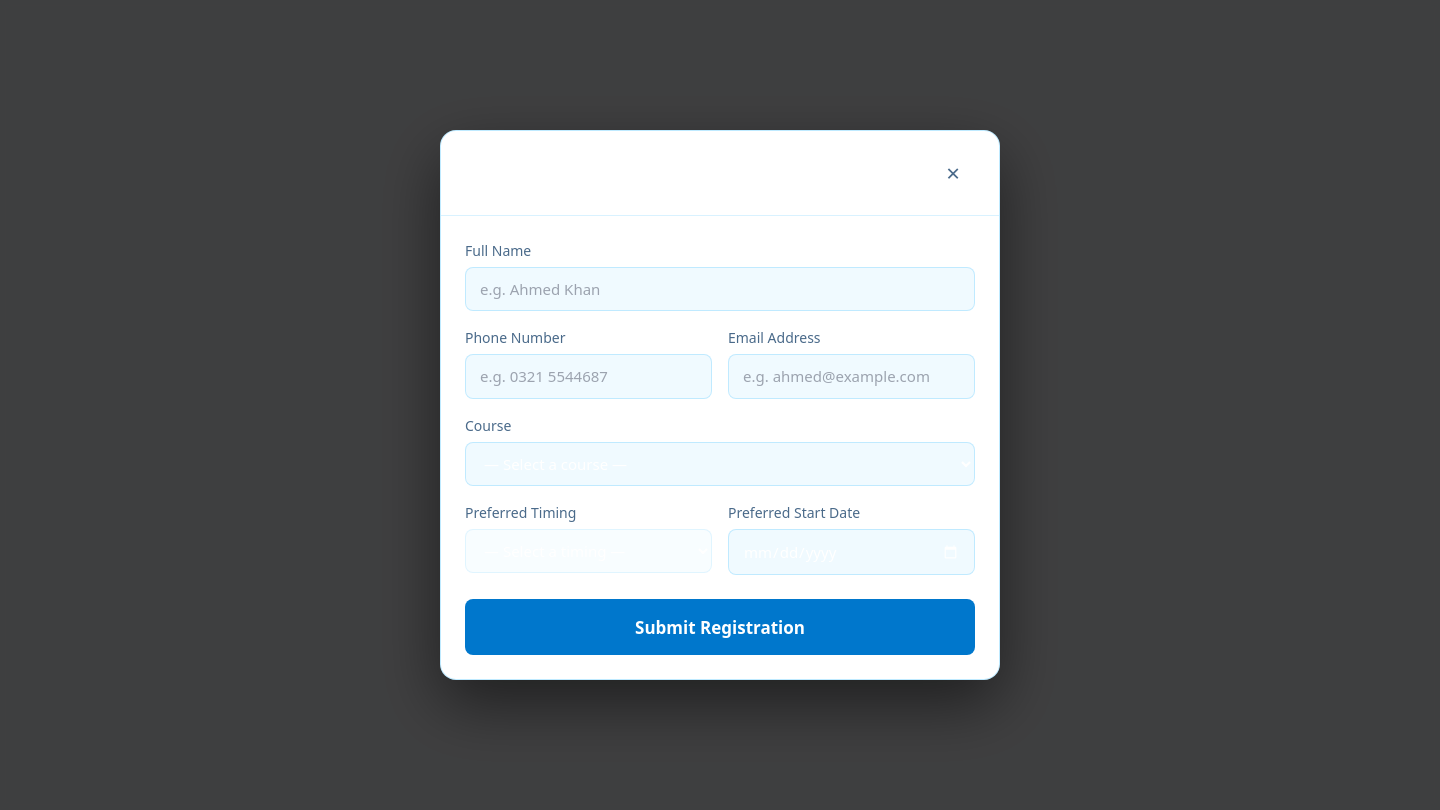
RegistrationModal › shows inline error messages when submitting an empty form
This screenshot has width=1440, height=810.
What coordinates should you click on to do the following:
click the button "Submit Registration"
I would click on:
 (720, 627)
Its box is [465, 599, 975, 655].
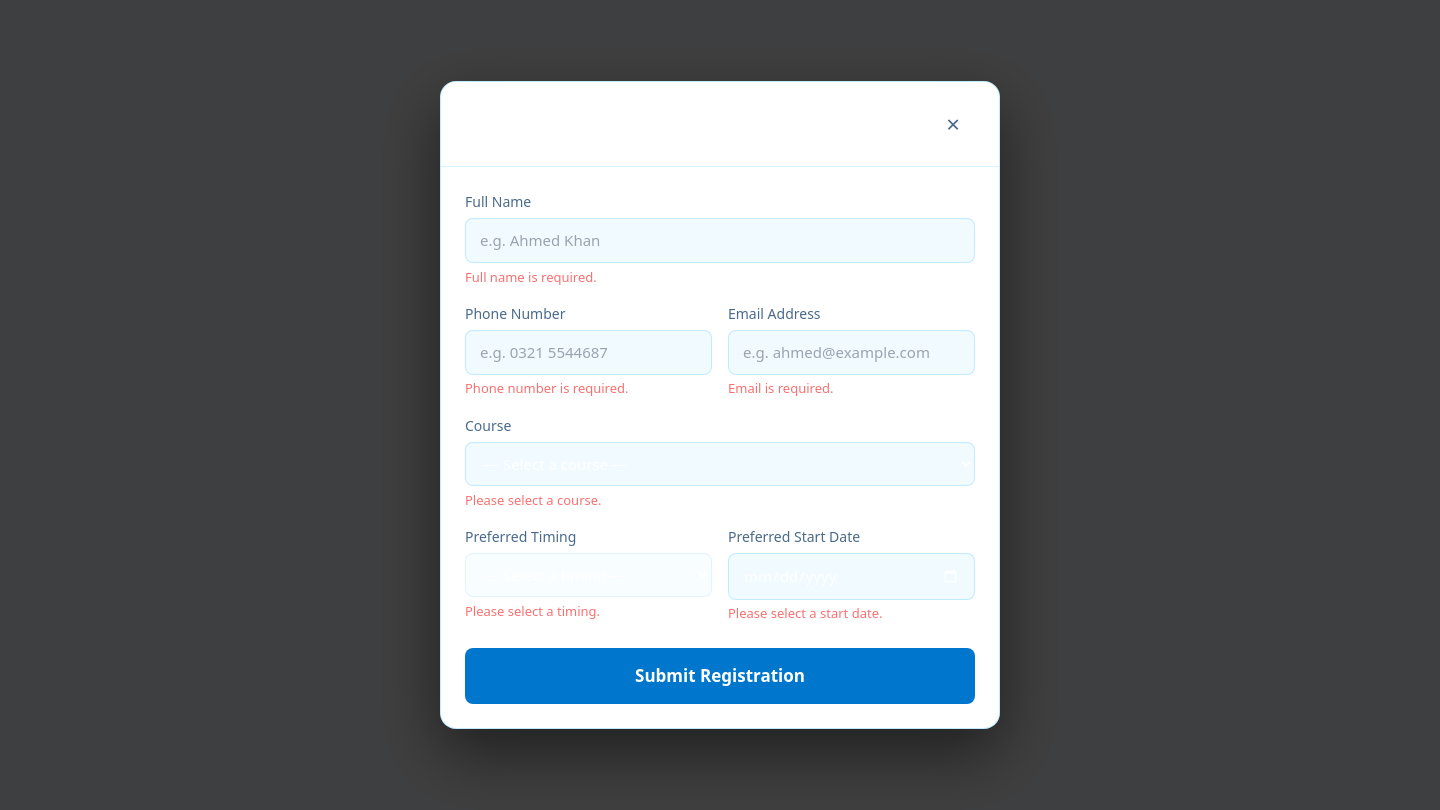
expect the text "Full name is required." is shown: met, box [465, 268, 597, 286]
expect the text "Phone number is required." is shown: met, box [465, 379, 628, 397]
expect the text "Email is required." is shown: met, box [728, 379, 834, 397]
